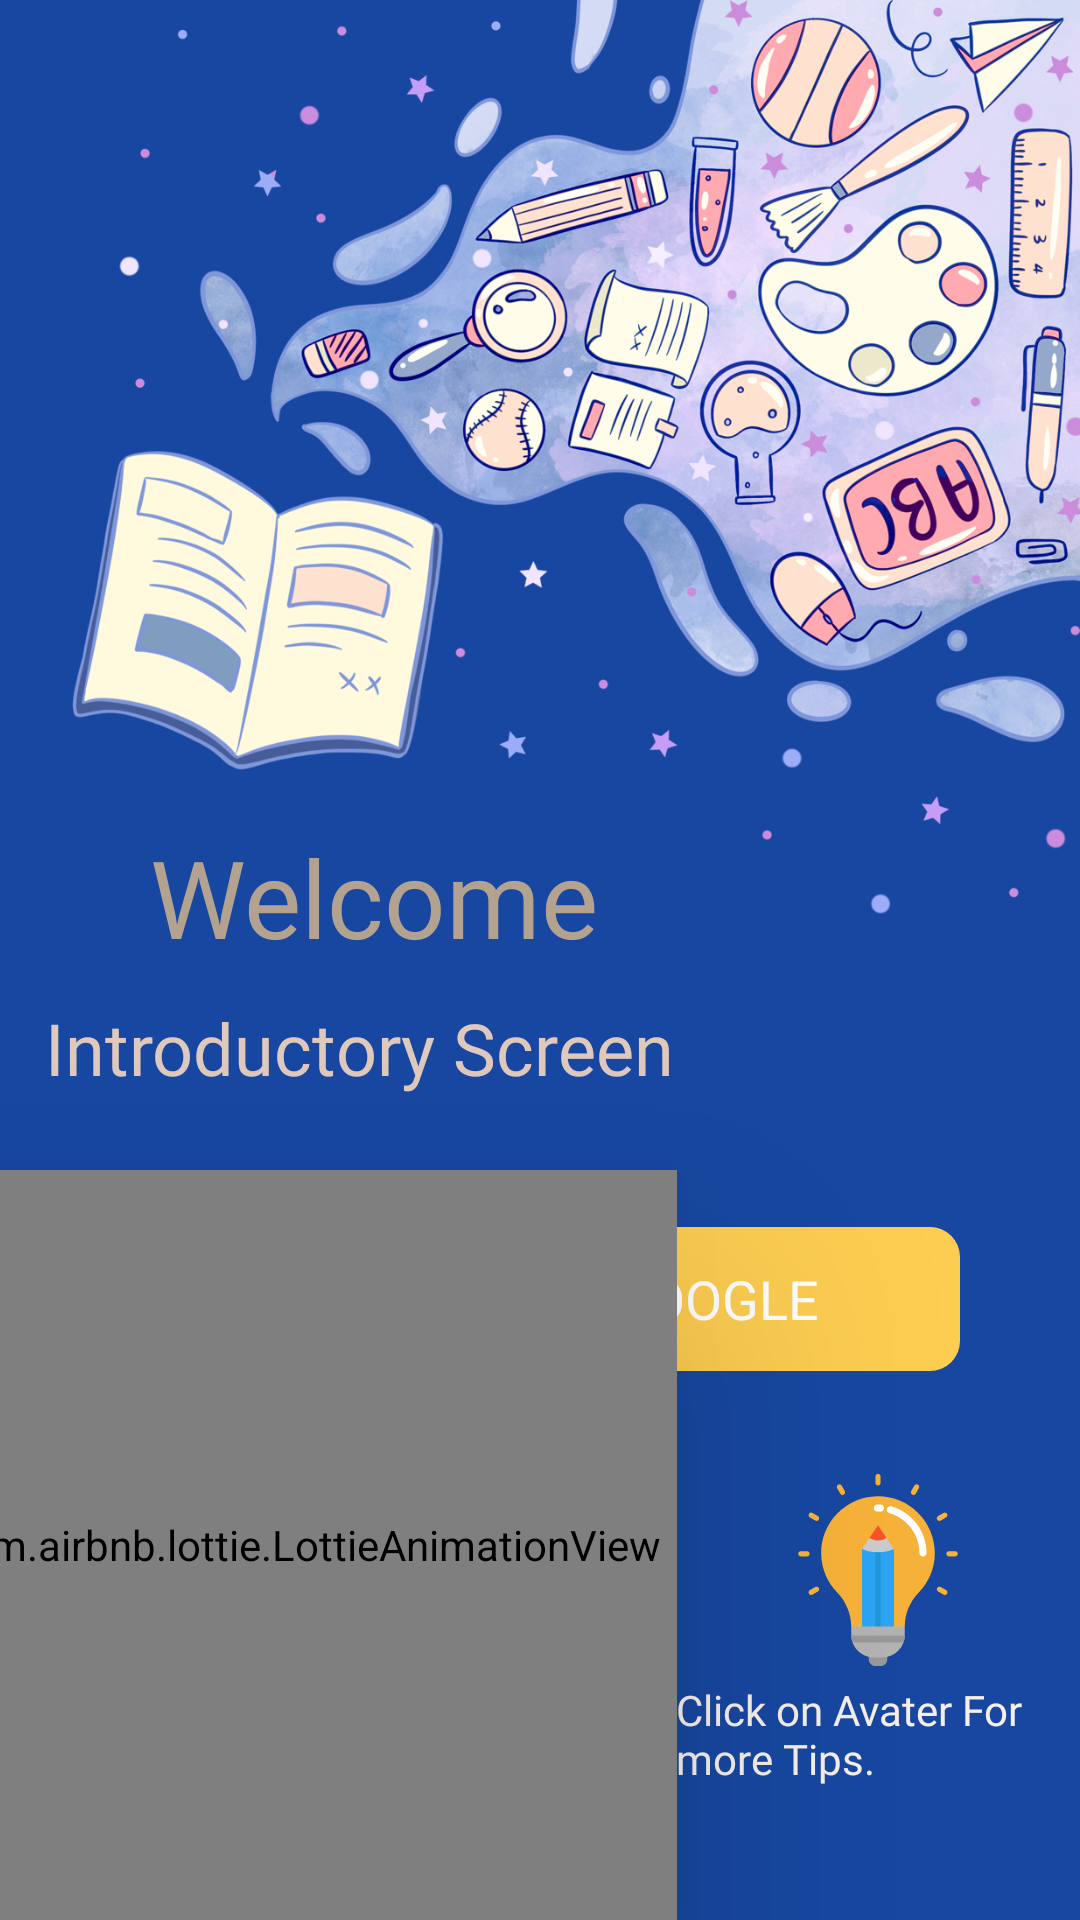

Named icons in this screenshot (1080w x 1920h) and their centers, (x=x, y=y):
bulb: (x=878, y=1570)
